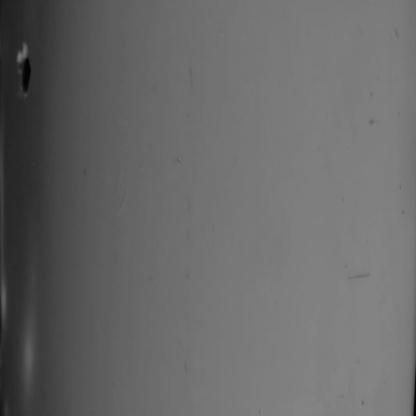kongdong: (1, 37, 50, 101)
